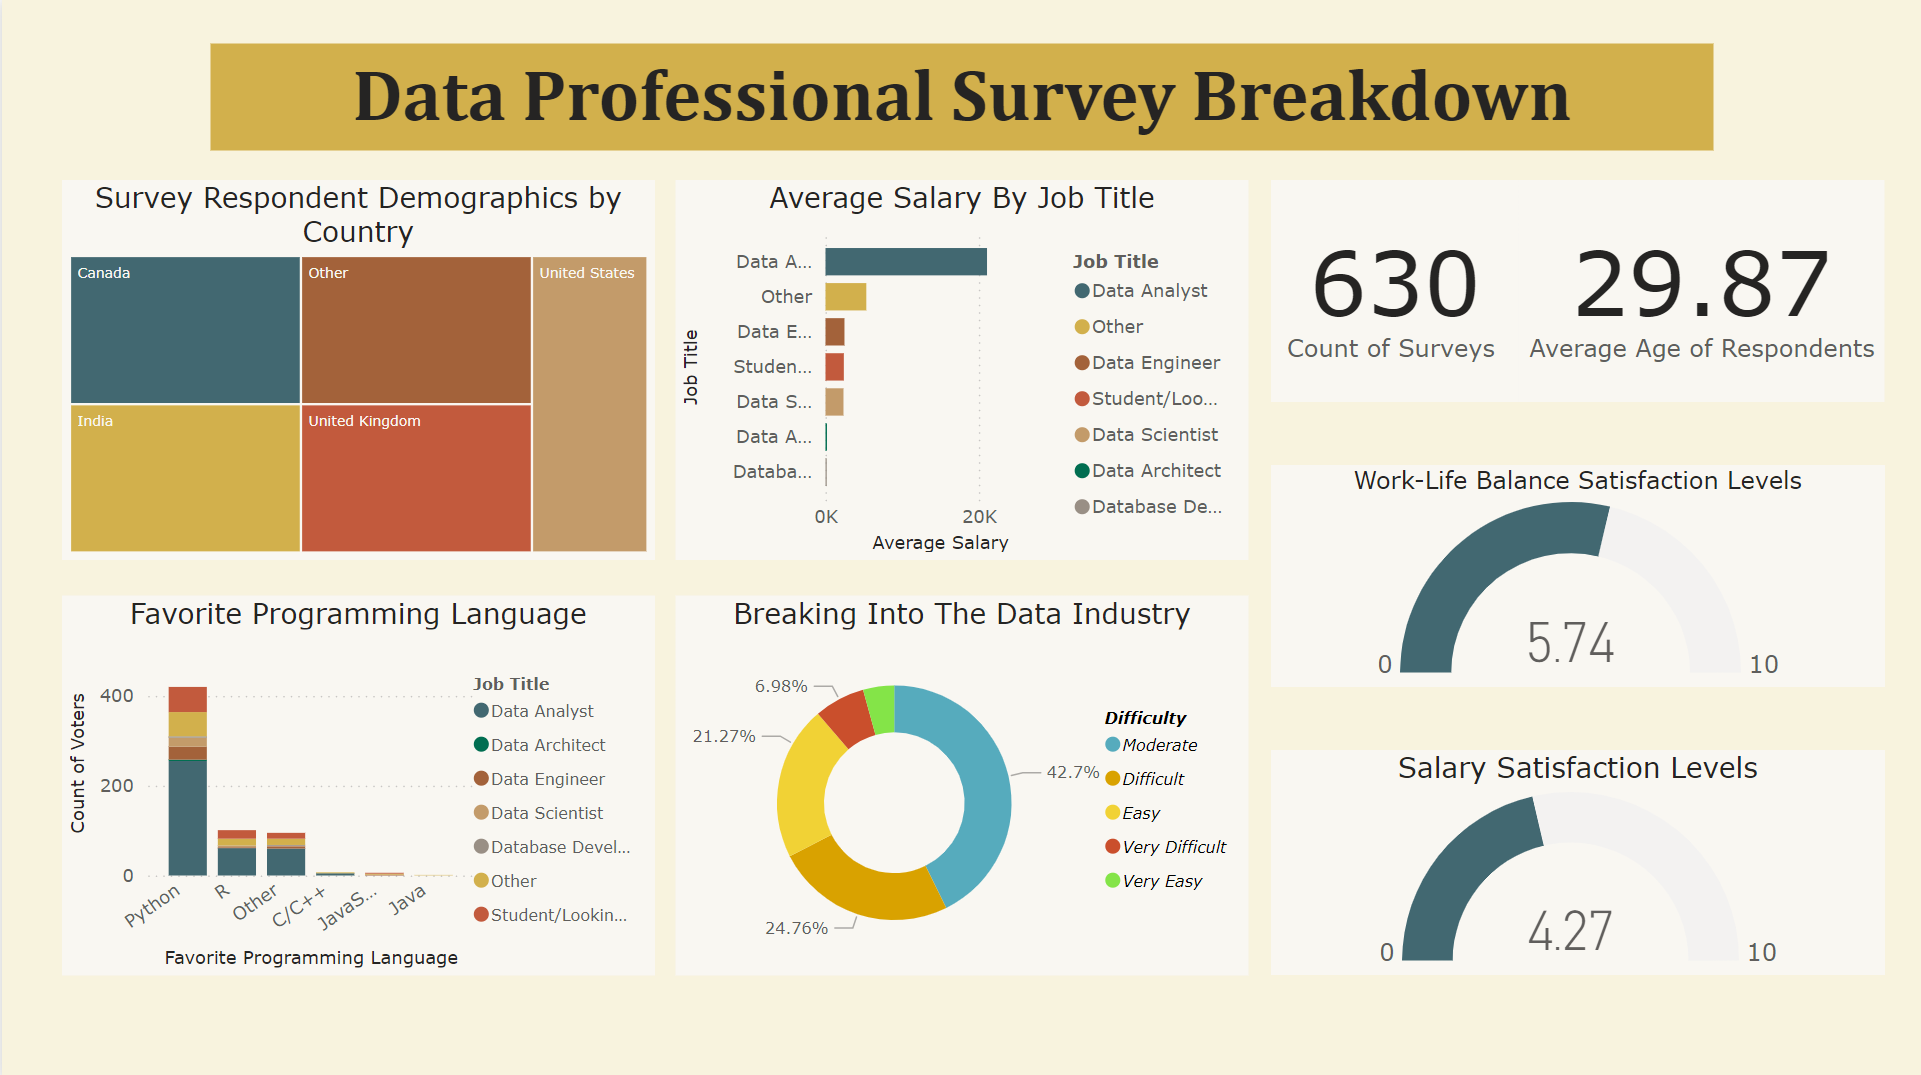

What the dashboard file says about the page in this screenshot:
{"tool":"powerbi","page":{"name":"Page 1","canvas":[1280,720],"ordinal":0},"visuals":[{"type":"textbox","box":[139,29,1002,71],"z":0},{"type":"card","fields":{"Values":["Count(Data Professional Survey.Unique ID)"]},"box":[846,120,165,148],"z":1000},{"type":"card","fields":{"Values":["Avg(Data Professional Survey.Q10 - Current Age)"]},"box":[1011,120,244,148],"z":2000},{"type":"barChart","title":"Average Salary By Job Title","fields":{"Category":["Data Professional Survey.Q1 - Which Title Best Fits your Current Role?.1"],"Y":["Avg(Data Professional Survey.Average Salary)"],"Series":["Data Professional Survey.Q1 - Which Title Best Fits your Current Role?.1"]},"box":[449,120,382,253],"z":3000},{"type":"columnChart","title":"Favorite Programming Language ","fields":{"Category":["Data Professional Survey.Q5 - Favorite Programming Language.1"],"Y":["CountNonNull(Data Professional Survey.Unique ID)"],"Series":["Data Professional Survey.Q1 - Which Title Best Fits your Current Role?.1"]},"box":[40,397.3,395.5,252.7],"z":4000},{"type":"treemap","title":"Survey Respondent Demographics by Country","fields":{"Group":["Data Professional Survey.Q11 - Which Country do you live in?.1"],"Values":["Count(Data Professional Survey.Q11 - Which Country do you live in?.1)"]},"box":[40,120,395,253],"z":5000},{"type":"gauge","title":"Salary Satisfaction Levels","fields":{"Y":["Avg(Data Professional Survey.Q6 - How Happy are you in your Current Position with the following? (Salary))"],"MinValue":["Min(Data Professional Survey.Q6 - How Happy are you in your Current Position with the following? (Salary))"],"MaxValue":["Max(Data Professional Survey.Q6 - How Happy are you in your Current Position with the following? (Salary))"]},"box":[846,500,409,150],"z":6000},{"type":"gauge","title":"Work-Life Balance Satisfaction Levels","fields":{"Y":["Avg(Data Professional Survey.Q6 - How Happy are you in your Current Position with the following? (Work/Life Balance))"],"MaxValue":["Max(Data Professional Survey.Q6 - How Happy are you in your Current Position with the following? (Work/Life Balance))1"],"MinValue":["Min(Data Professional Survey.Q6 - How Happy are you in your Current Position with the following? (Work/Life Balance))"]},"box":[846,310,409,148],"z":7000},{"type":"donutChart","title":"Breaking Into The Data Industry","fields":{"Y":["CountNonNull(Data Professional Survey.Q7 - How difficult was it for you to break into Data? - Copy)"],"Category":["Data Professional Survey.Q7 - How difficult was it for you to break into Data? - Copy"]},"box":[449.1,397.3,381.8,252.7],"z":8000}]}

Visuals, with their boxes in screenshot pixels (x1, y1, x2, y2), scaled from the page's 1280x720 canvas onto the 1921x1075 screenshot:
textbox: bbox(209, 43, 1712, 149)
card - Count(Data Professional Survey.Unique ID): bbox(1270, 179, 1517, 400)
card - Avg(Data Professional Survey.Q10 - Current Age): bbox(1517, 179, 1883, 400)
"Average Salary By Job Title" barChart: bbox(674, 179, 1247, 557)
"Favorite Programming Language " columnChart: bbox(60, 593, 654, 970)
"Survey Respondent Demographics by Country" treemap: bbox(60, 179, 653, 557)
"Salary Satisfaction Levels" gauge: bbox(1270, 747, 1883, 970)
"Work-Life Balance Satisfaction Levels" gauge: bbox(1270, 463, 1883, 684)
"Breaking Into The Data Industry" donutChart: bbox(674, 593, 1247, 970)
